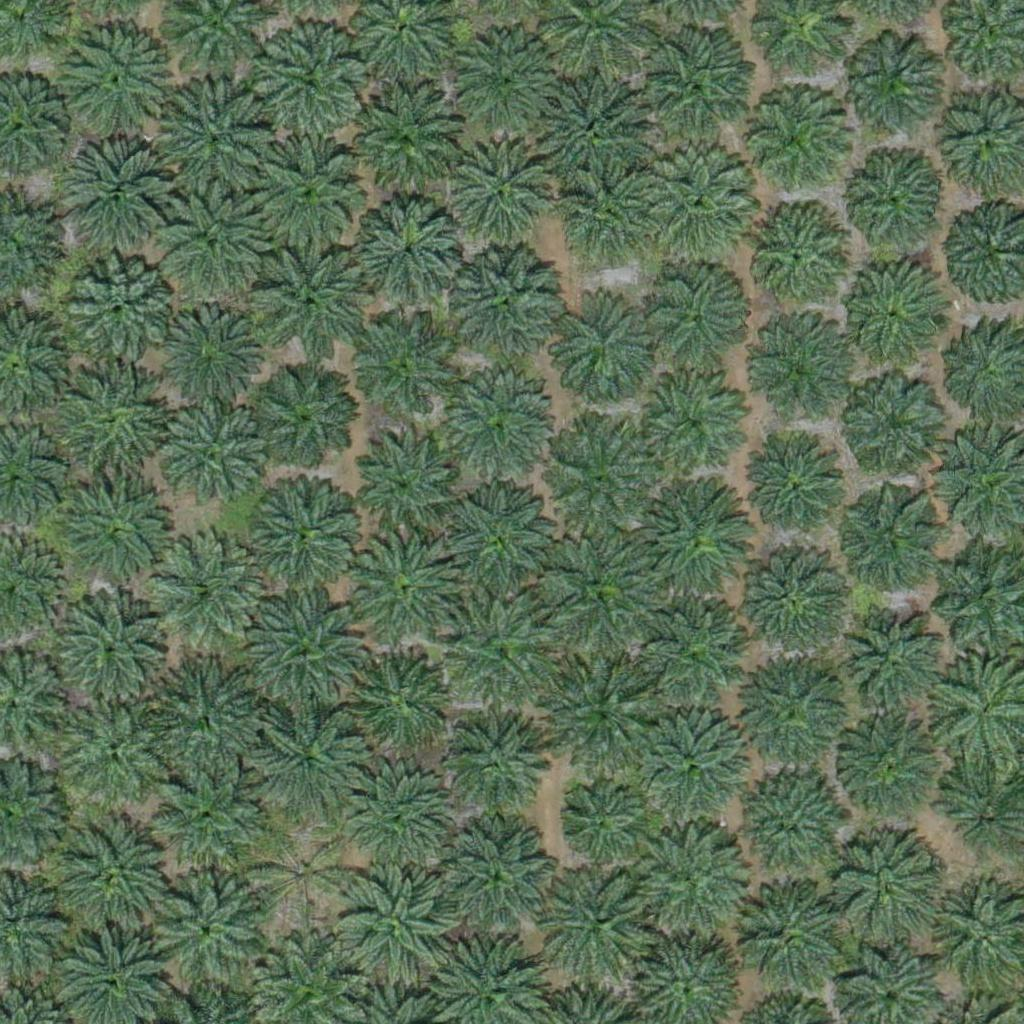Kelapa_Sawit: (631, 146, 756, 272), (48, 363, 173, 489), (58, 473, 183, 599), (627, 598, 752, 724), (541, 655, 666, 781), (43, 581, 168, 707), (641, 368, 754, 482), (545, 290, 658, 404), (634, 481, 747, 595), (542, 867, 655, 981), (346, 530, 459, 644), (441, 820, 554, 934), (535, 73, 648, 186), (444, 138, 557, 251), (157, 85, 270, 198), (56, 19, 169, 132), (156, 193, 269, 306), (250, 136, 363, 249), (542, 425, 655, 538), (355, 430, 468, 543), (248, 476, 361, 589), (254, 251, 367, 364), (150, 296, 263, 409), (833, 716, 946, 829), (828, 838, 941, 951), (735, 546, 848, 659), (736, 659, 849, 772), (59, 692, 172, 805), (154, 877, 267, 990), (150, 760, 263, 873), (144, 662, 257, 775), (444, 590, 557, 703), (57, 141, 169, 255), (639, 257, 751, 371), (451, 245, 563, 359), (150, 531, 262, 645), (250, 591, 362, 705), (345, 768, 457, 882), (744, 206, 856, 319), (741, 86, 853, 199), (639, 24, 751, 137), (351, 88, 463, 201), (256, 23, 368, 136), (354, 201, 466, 314), (738, 315, 850, 428), (346, 318, 458, 431), (442, 379, 554, 492), (446, 481, 558, 594), (159, 405, 271, 518), (65, 254, 177, 367), (734, 777, 846, 890), (731, 885, 843, 998), (635, 713, 747, 826), (634, 824, 746, 937), (543, 535, 655, 648), (62, 816, 174, 929), (252, 703, 364, 816), (338, 865, 450, 978), (253, 825, 353, 926), (455, 29, 555, 130), (841, 261, 941, 362), (847, 371, 947, 472), (256, 368, 356, 469), (836, 493, 936, 594), (847, 610, 947, 711), (842, 34, 942, 134), (843, 153, 943, 253), (749, 442, 849, 542), (348, 652, 448, 752), (447, 710, 547, 810), (561, 786, 636, 862), (564, 177, 639, 252)
